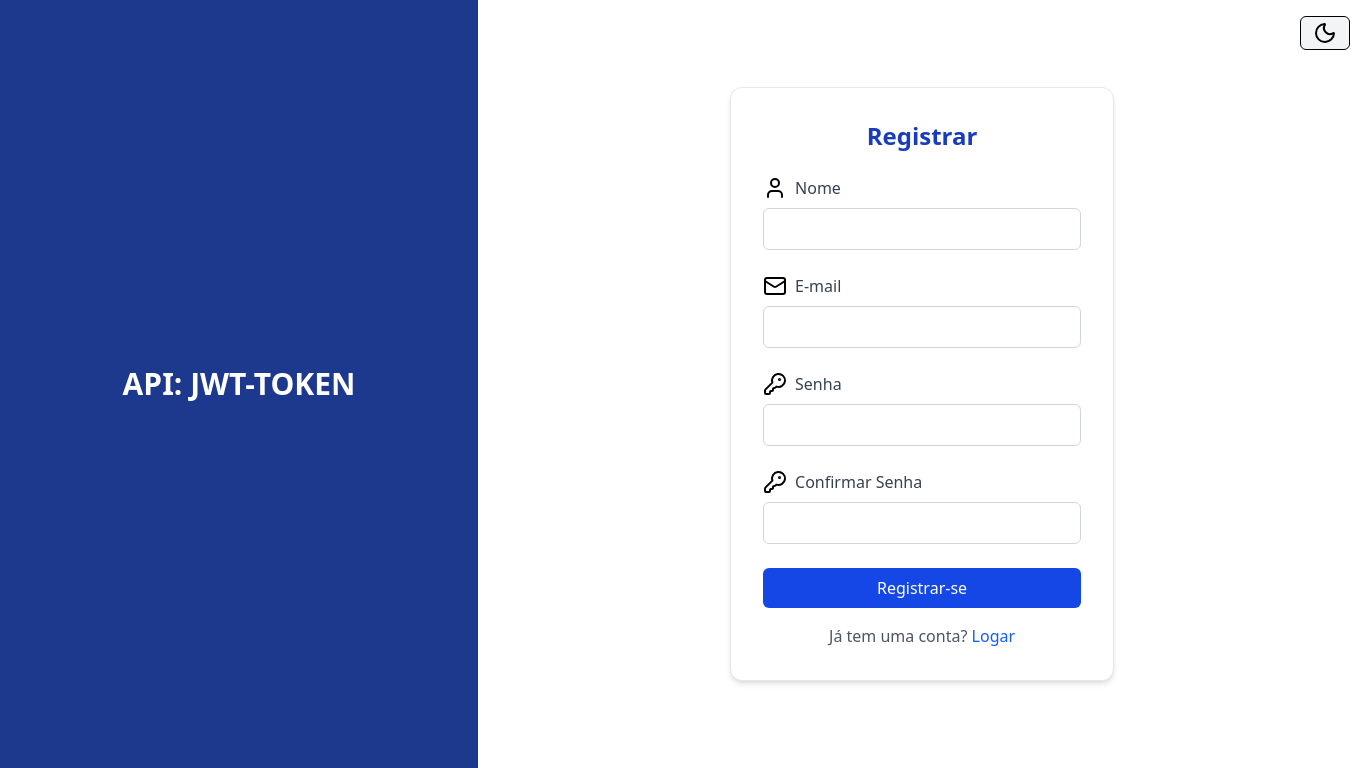
Test: Validação de Erros no Registro › Erro: senha fraca
Click the button with id "theme-toggle-button" at point(1325, 33), box [1300,16,1350,50]
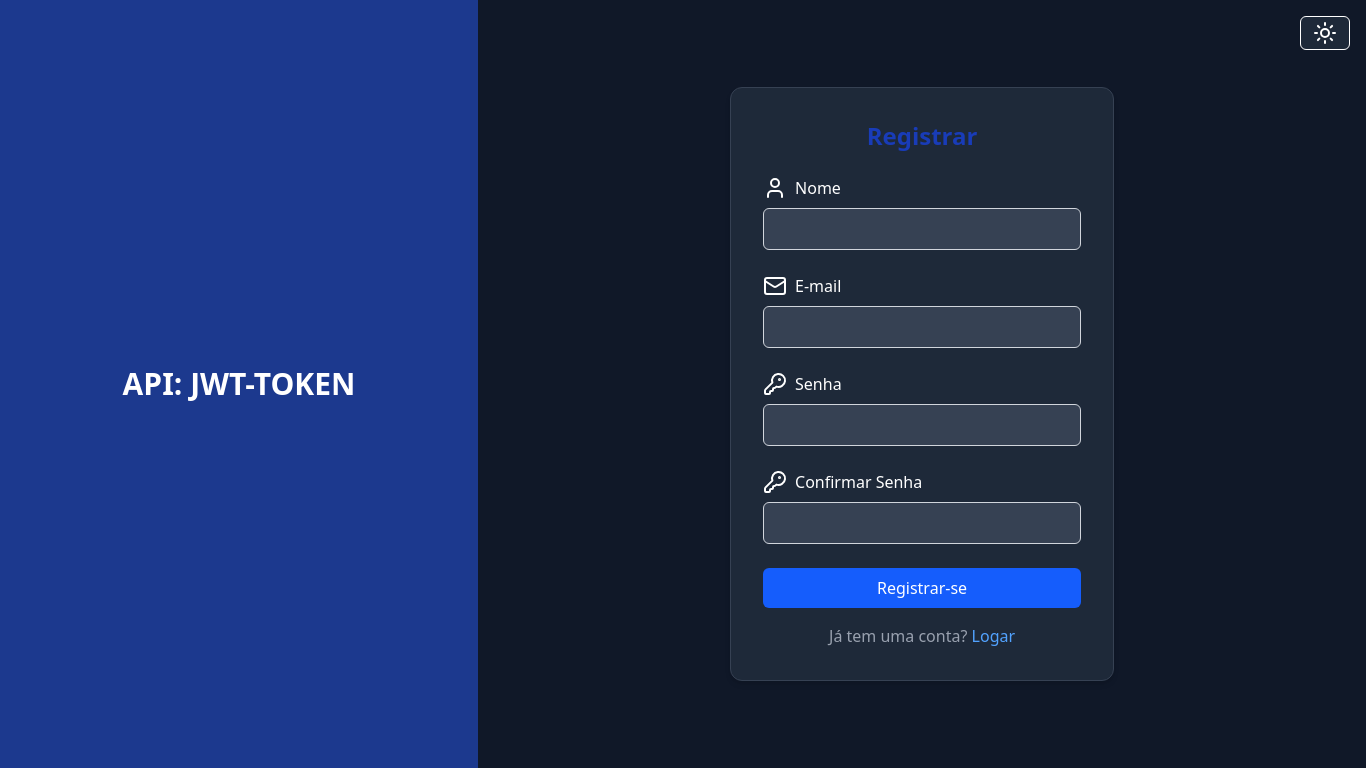
Type "Edson" into the field with id "name" at point(922, 229), box [763,208,1081,250]
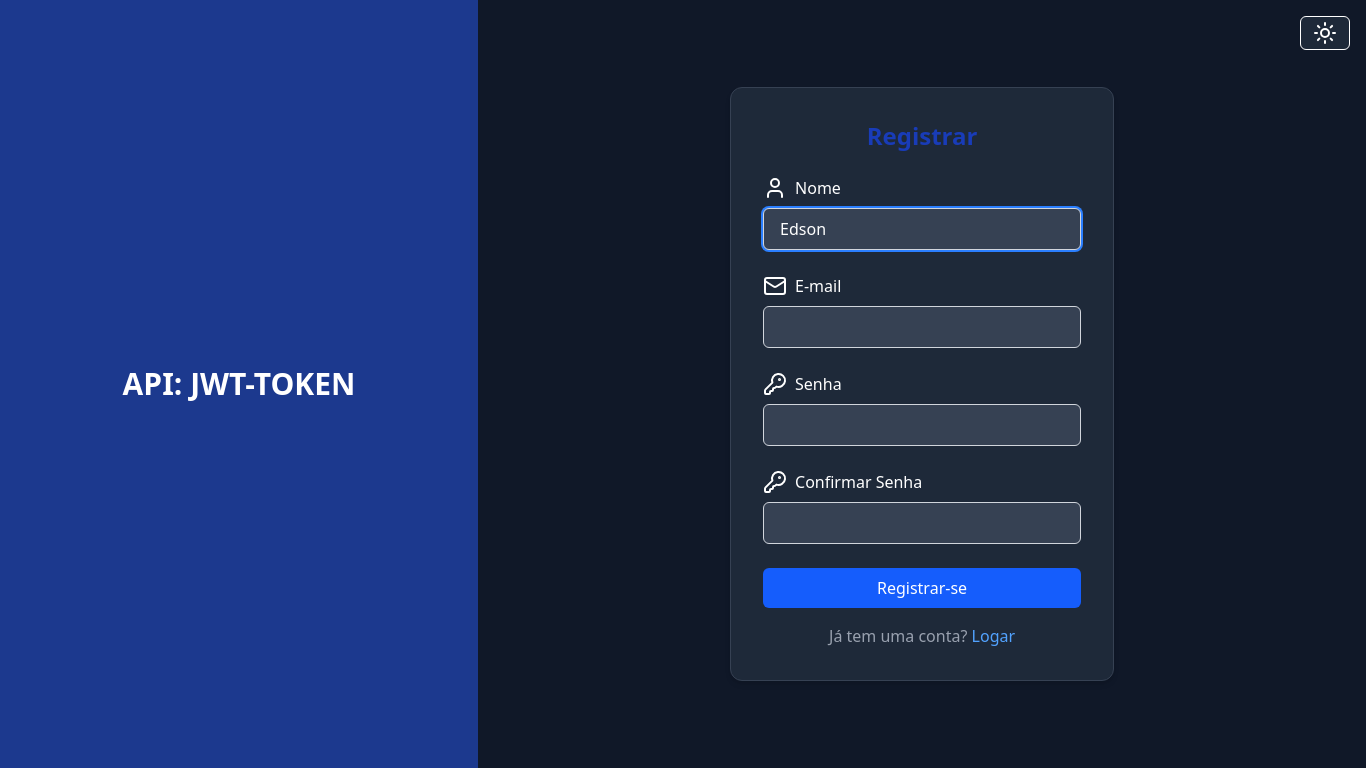
Type "teste@email.com" into the field with id "email" at point(922, 327), box [763,306,1081,348]
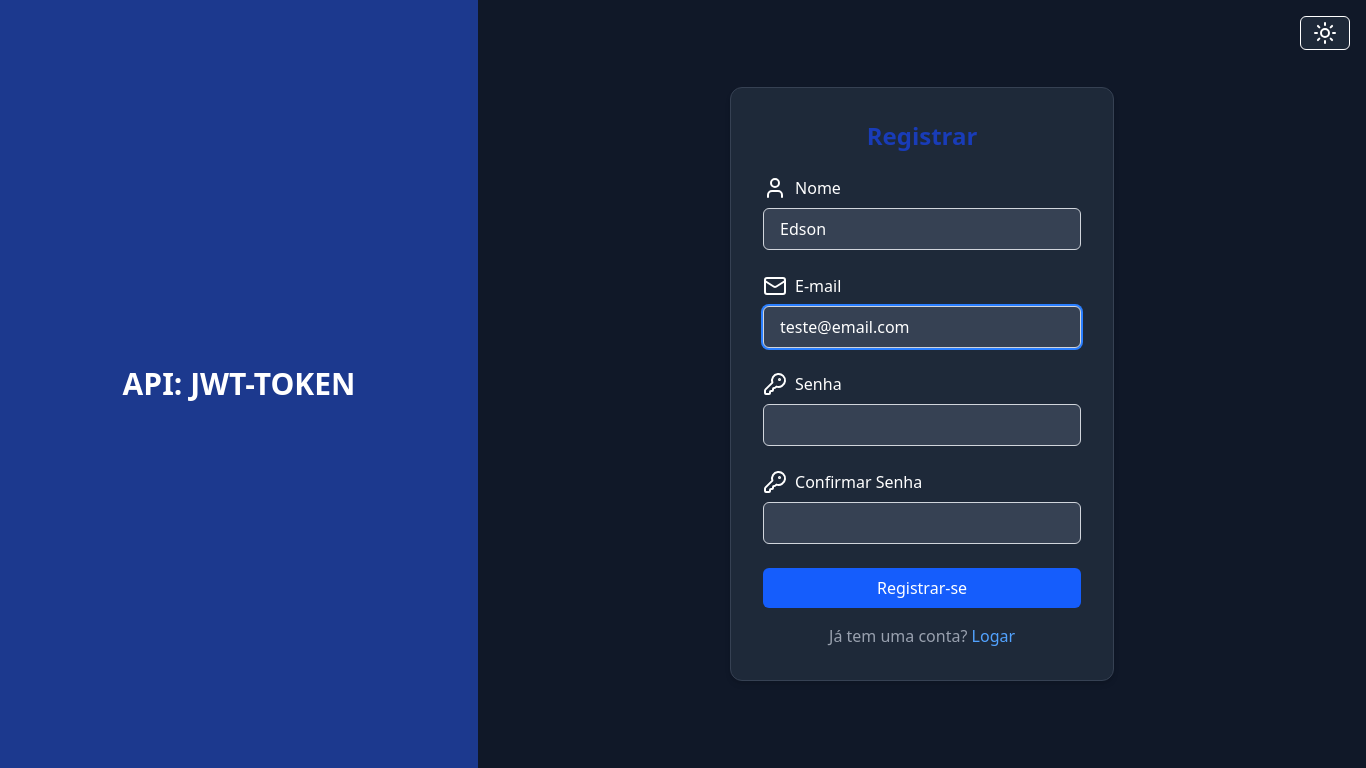
Type "123456" into the 1st password field at point(922, 425), box [763,404,1081,446]
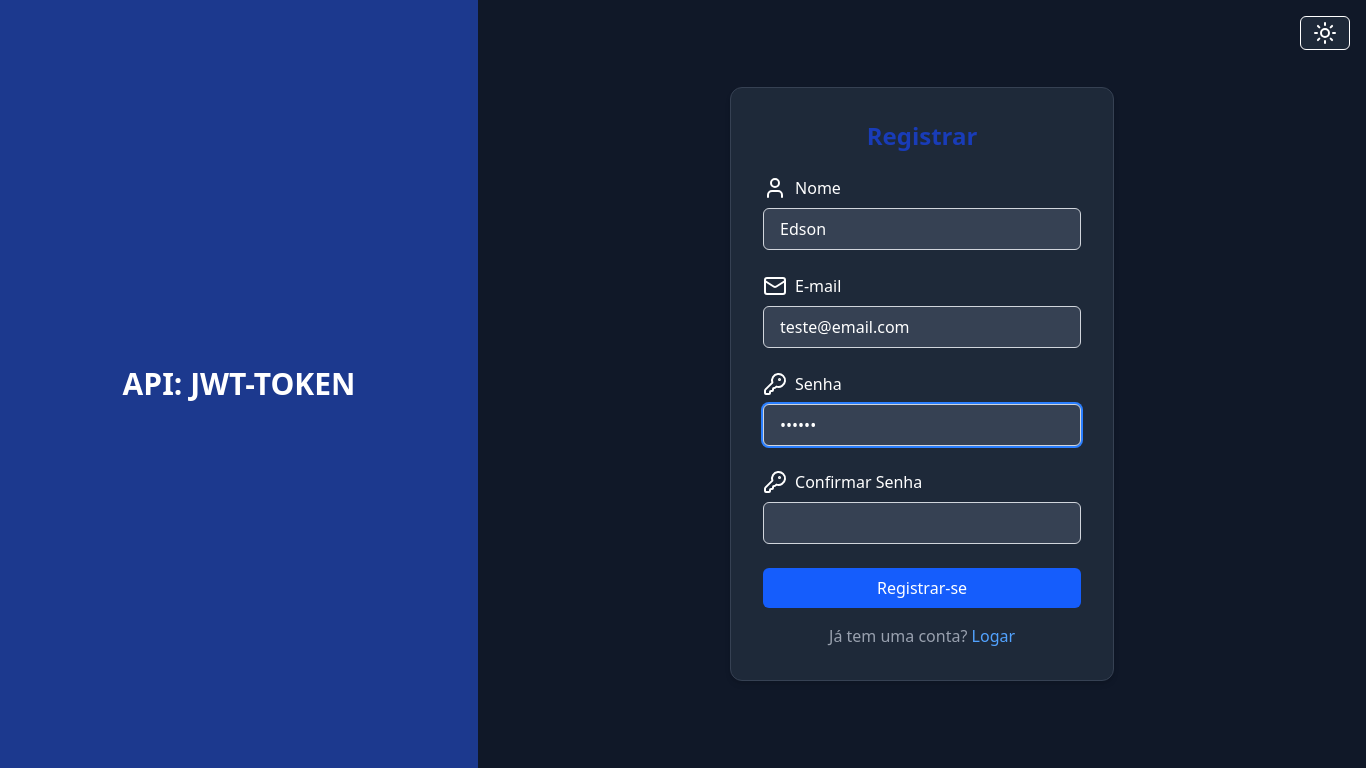
Type "123456" into the password field below "Confirmar Senha" at point(922, 523), box [763,502,1081,544]
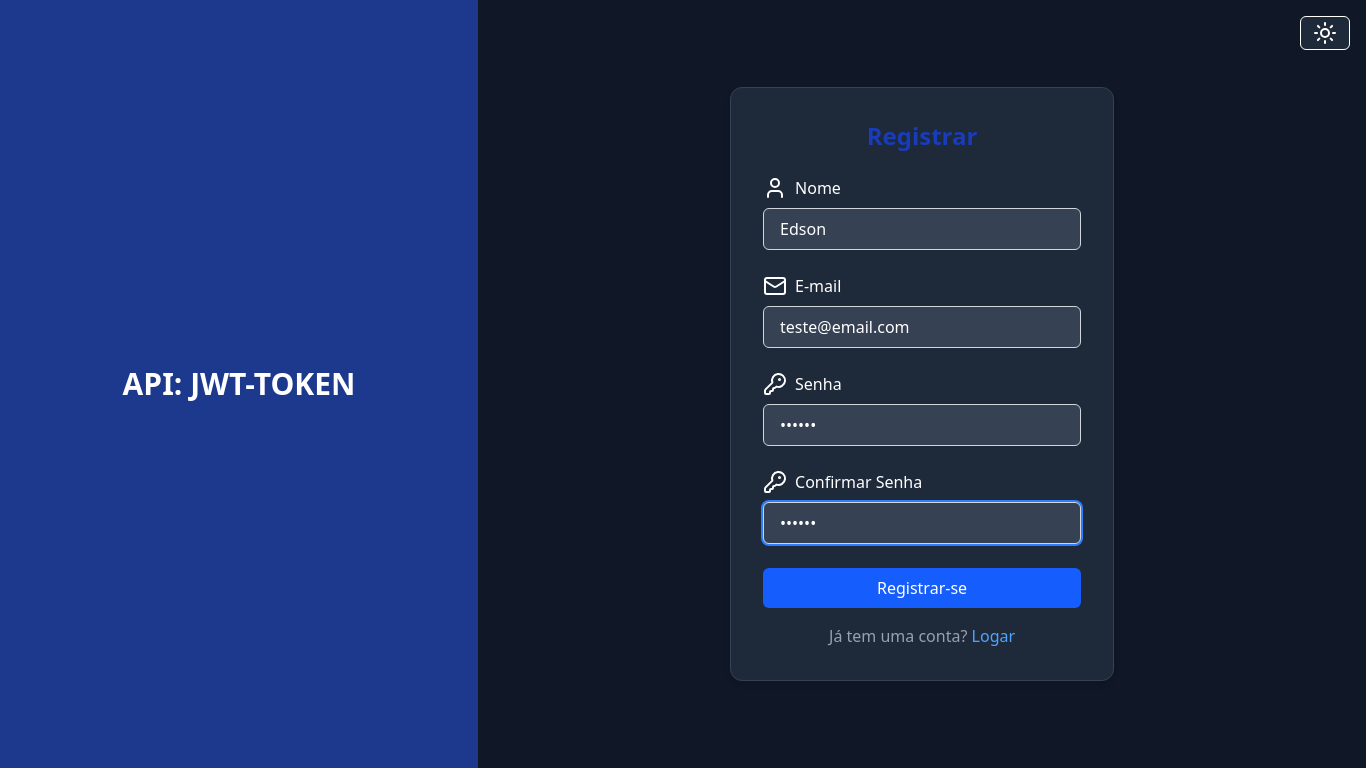
Click the button with id "register-button" at point(922, 588), box [763,568,1081,608]
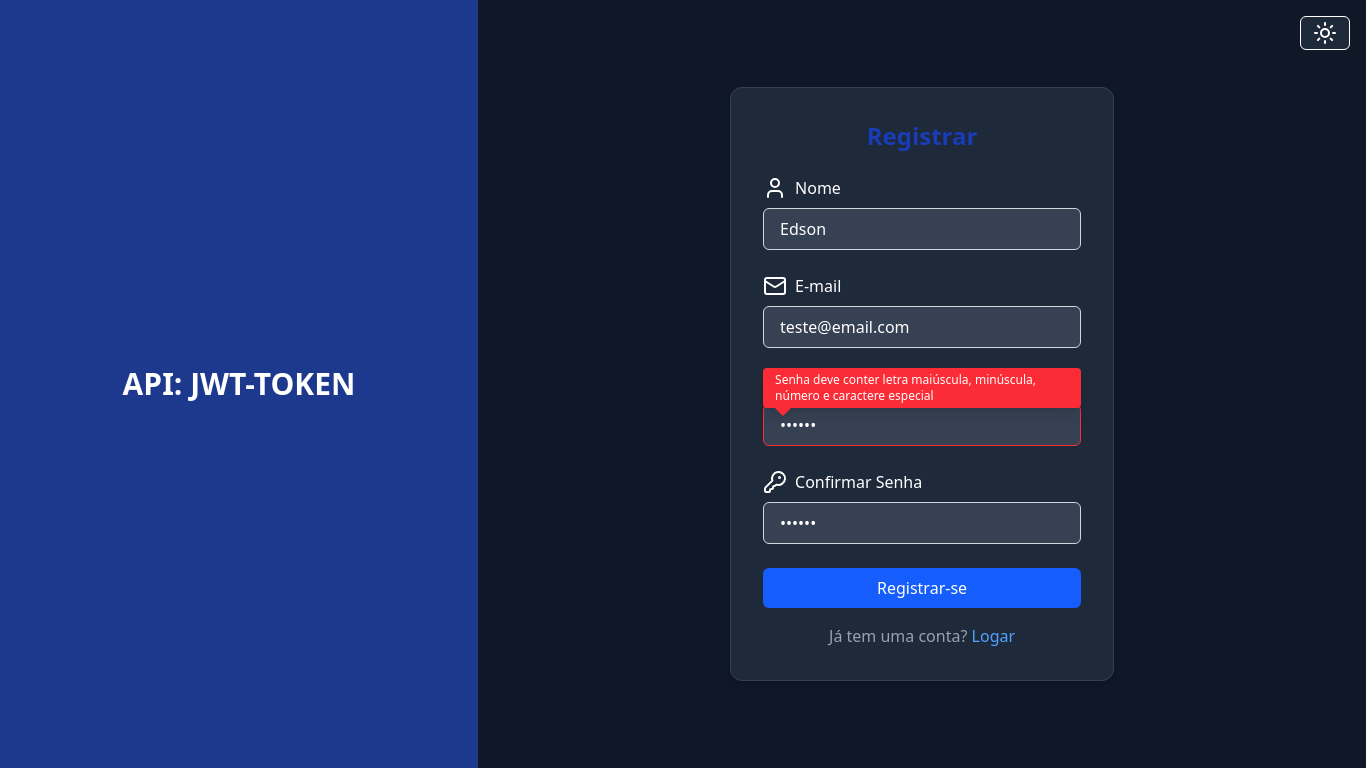
Expected: the element with id "error-message" reads "Senha deve conter letra maiúscula, minúscula, número e caractere especial", [763,368,1081,408]
